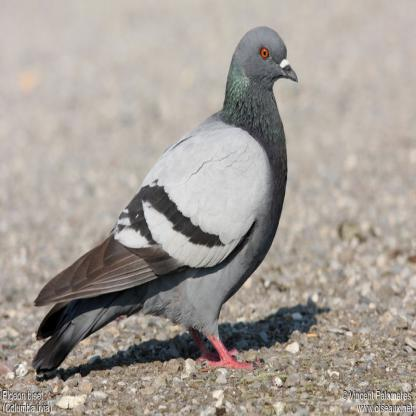Flying Rat: (48, 8, 330, 377)
